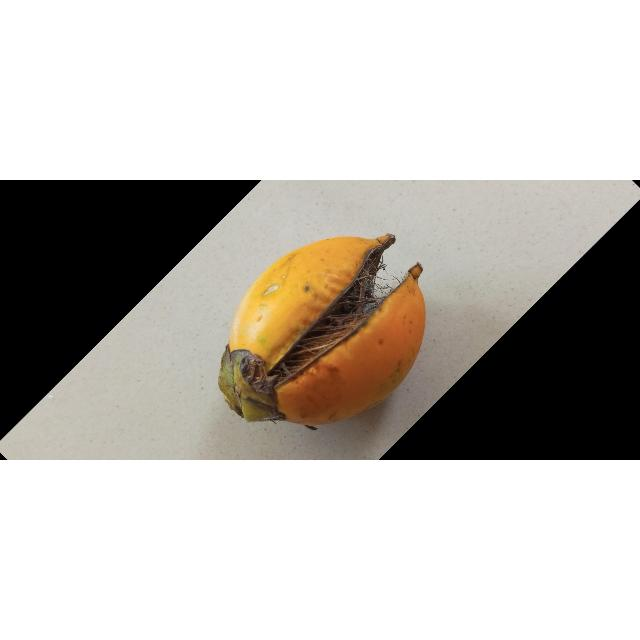damaged: (220, 235, 420, 422), (265, 266, 426, 427)
